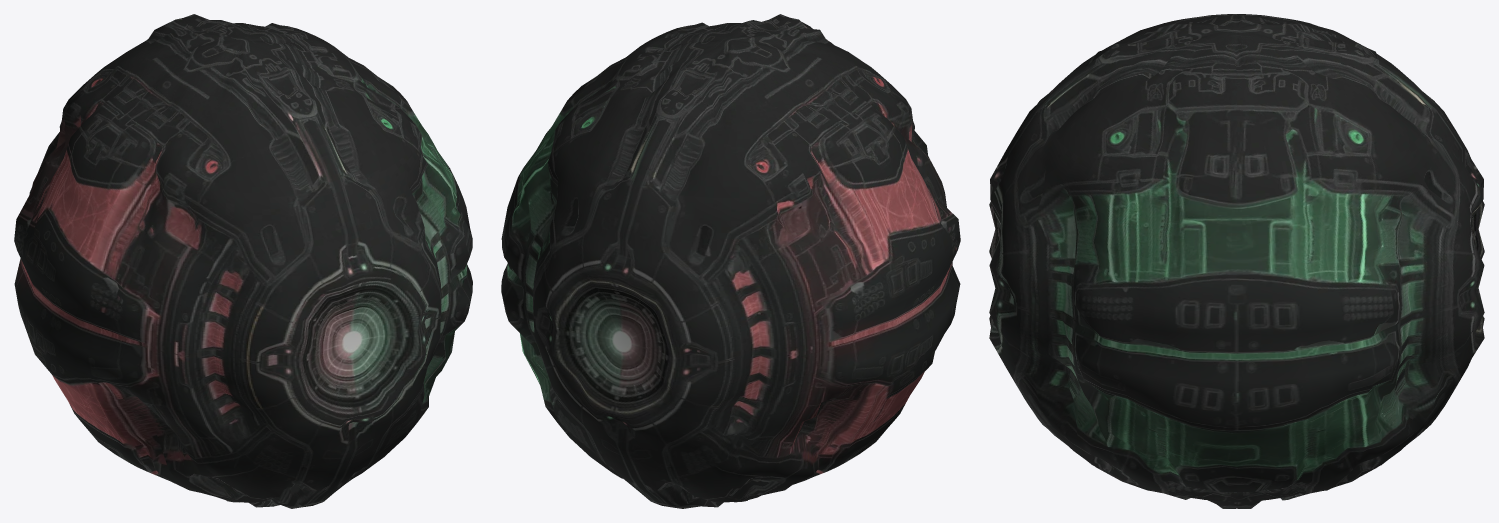
Rendered from xorzo.glb.
3 views of the same model, side by side, from view 1: azimuth 30°, elevation 25°; view 2: azimuth 150°, elevation 25°; view 3: azimuth 270°, elevation 25° (orthographic). The views are drawn at different scales.
Visible parts, largest first — view 1: xorzo; view 2: xorzo; view 3: xorzo.
Boxes of the visible parts, box(x1,y1,x2,y2) form: xorzo: box(14, 14, 472, 508); xorzo: box(501, 14, 960, 508); xorzo: box(989, 14, 1484, 508).
Bounding box in the file's own units: 1.75 × 1.88 × 1.84.
Materials: 1 (1 with a texture image).
